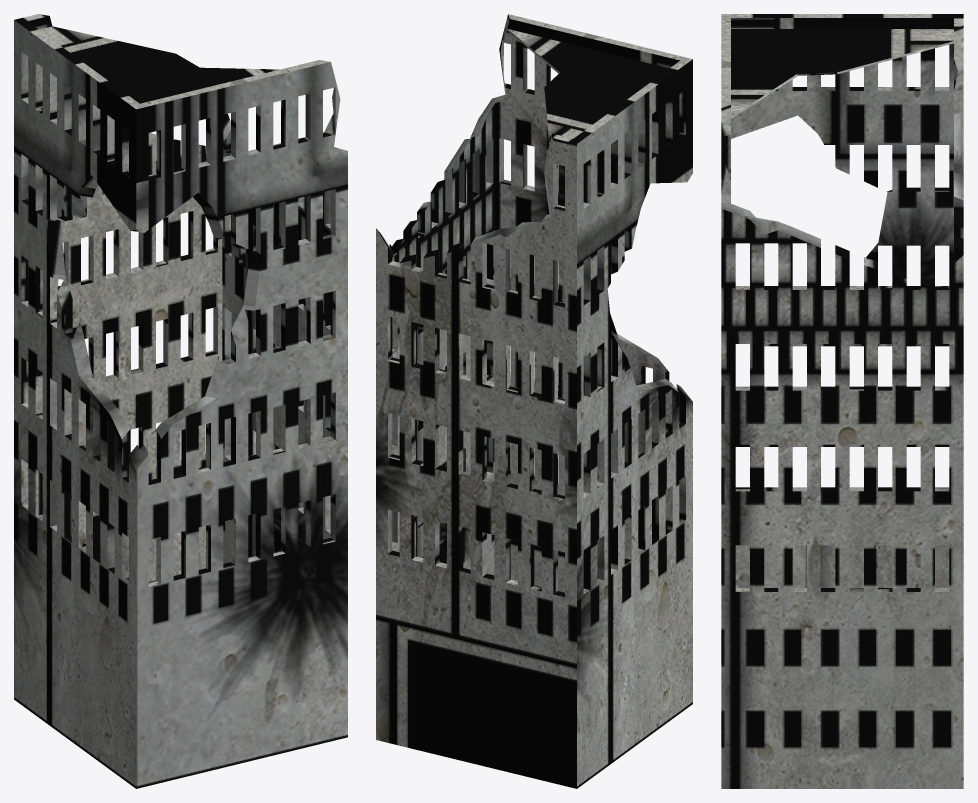
Rendered from Skyscraper_03.fbx.
3 views of the same model, side by side, from view 1: azimuth 30°, elevation 25°; view 2: azimuth 150°, elevation 25°; view 3: azimuth 270°, elevation 25° (orthographic). The views are drawn at different scales.
Visible parts, largest first — view 1: Skyscraper_03; view 2: Skyscraper_03; view 3: Skyscraper_03.
Boxes of the visible parts, box(x1,y1,x2,y2) form: Skyscraper_03: box(14, 14, 347, 788); Skyscraper_03: box(376, 14, 692, 788); Skyscraper_03: box(721, 14, 963, 788).
Size of the model in its own units: 17.09 by 52.4 by 17.09.
